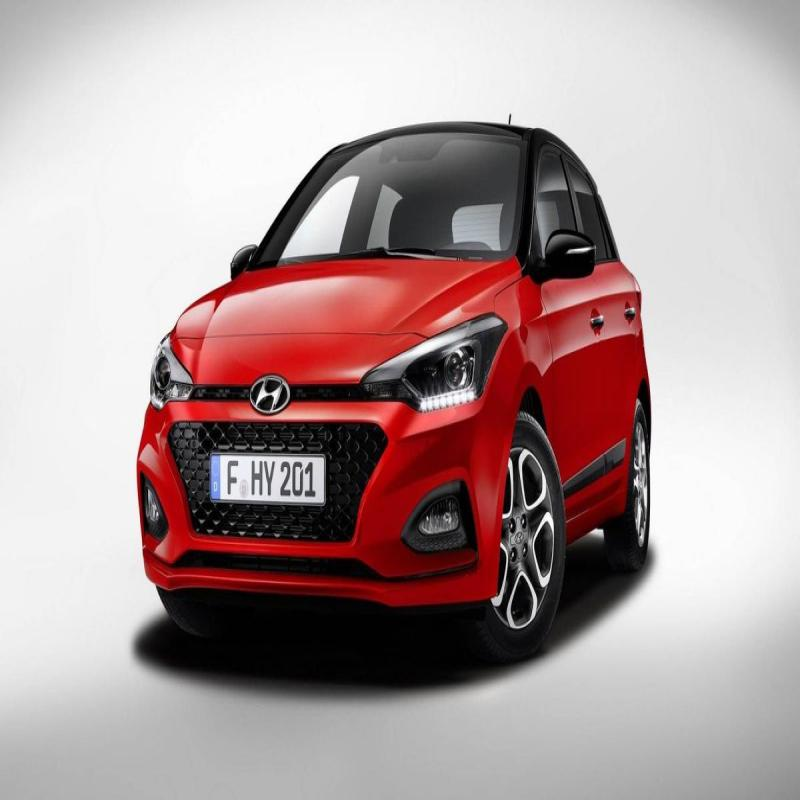car: (102, 78, 656, 666)
